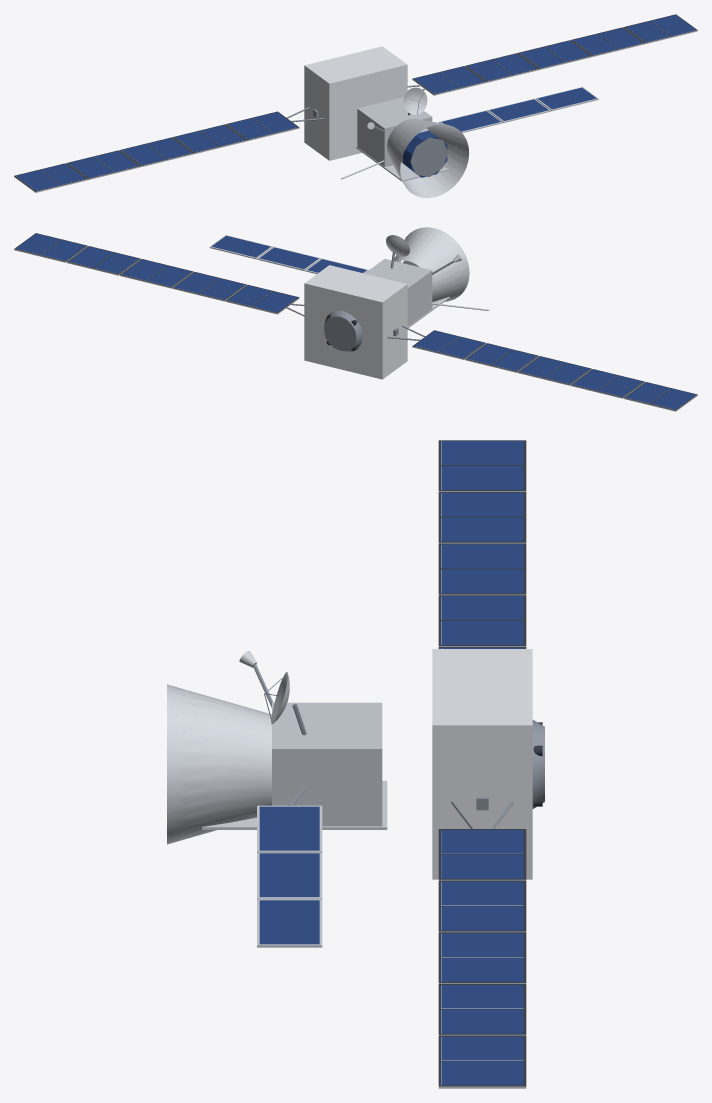
Rendered from bepicolombo.glb.
The picture shows the model from 3 angles, top to bottom: view 1: azimuth 30°, elevation 25°; view 2: azimuth 150°, elevation 25°; view 3: azimuth 270°, elevation 25°; orthographic projection. The views are drawn at different scales.
Visible parts, largest first — view 1: solar-panel, foil, body; view 2: solar-panel, foil, body; view 3: solar-panel, foil, body.
Part boxes in pixels (x1,y1,x2,y2): solar-panel: [16, 15, 695, 190]; foil: [304, 46, 432, 166]; body: [14, 14, 697, 198]; solar-panel: [16, 233, 695, 409]; foil: [304, 259, 432, 379]; body: [14, 227, 697, 411]; solar-panel: [202, 441, 523, 1085]; foil: [272, 649, 532, 879]; body: [167, 440, 544, 1088].
Bounding box in the file's own units: 30.52 × 3.87 × 7.55.
